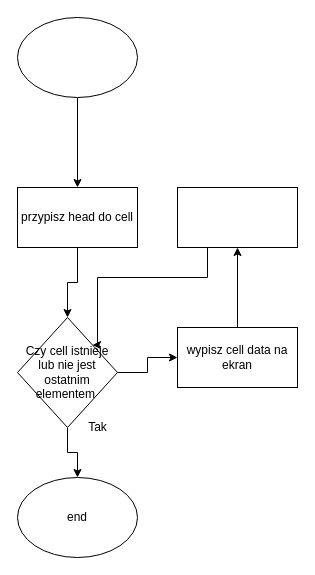
Some shapes in this 315 by 575 pixel diagram are drawn without their labels. Here are the shapes that lost their labels. From the top down, the centre of each, then its label:
At (77,57): "start".
At (237,217): "przypisz komórkę następną po cell do cell (cell = cell.next)".
